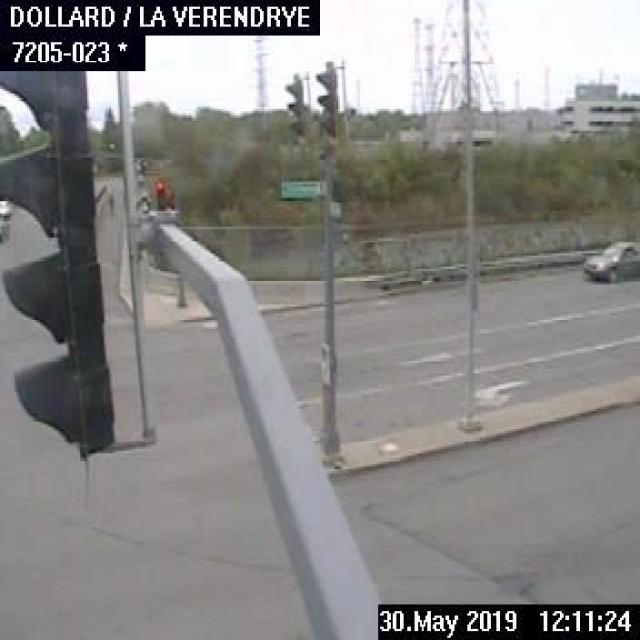vehicle: (580, 236, 638, 280), (0, 198, 15, 240)
